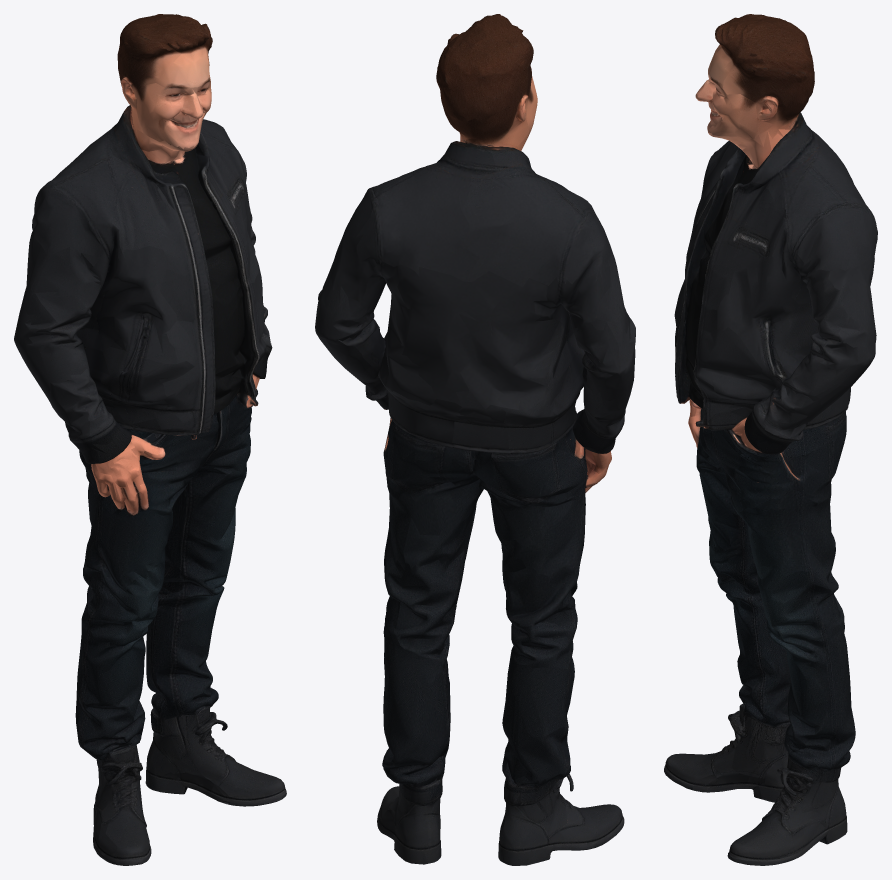
The model's file is elon_musk_v7.glb.
3 renders of one model, left to right at view 1: azimuth 30°, elevation 25°; view 2: azimuth 150°, elevation 25°; view 3: azimuth 270°, elevation 25°, orthographic.
Visible parts, largest first — view 1: mesh_node; view 2: mesh_node; view 3: mesh_node.
Boxes of the visible parts, <box> form: mesh_node: <box>14,14,286,865</box>; mesh_node: <box>315,14,635,865</box>; mesh_node: <box>664,14,877,865</box>.
Bounding box in the file's own units: 0.6707 × 1.9 × 0.4635.
Materials: 1 (1 with a texture image).
